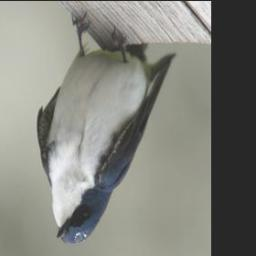Swallow: (36, 10, 177, 246)
